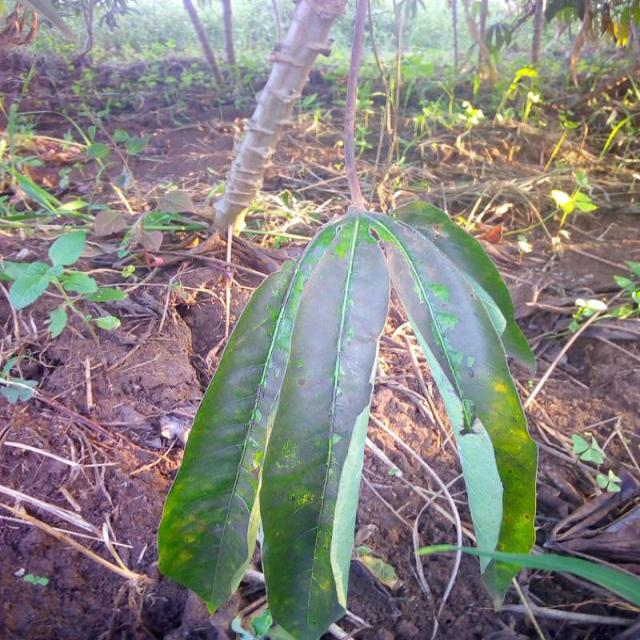cassava leaf: (155, 199, 539, 638), (366, 201, 539, 612), (256, 206, 391, 638), (155, 256, 297, 615)
